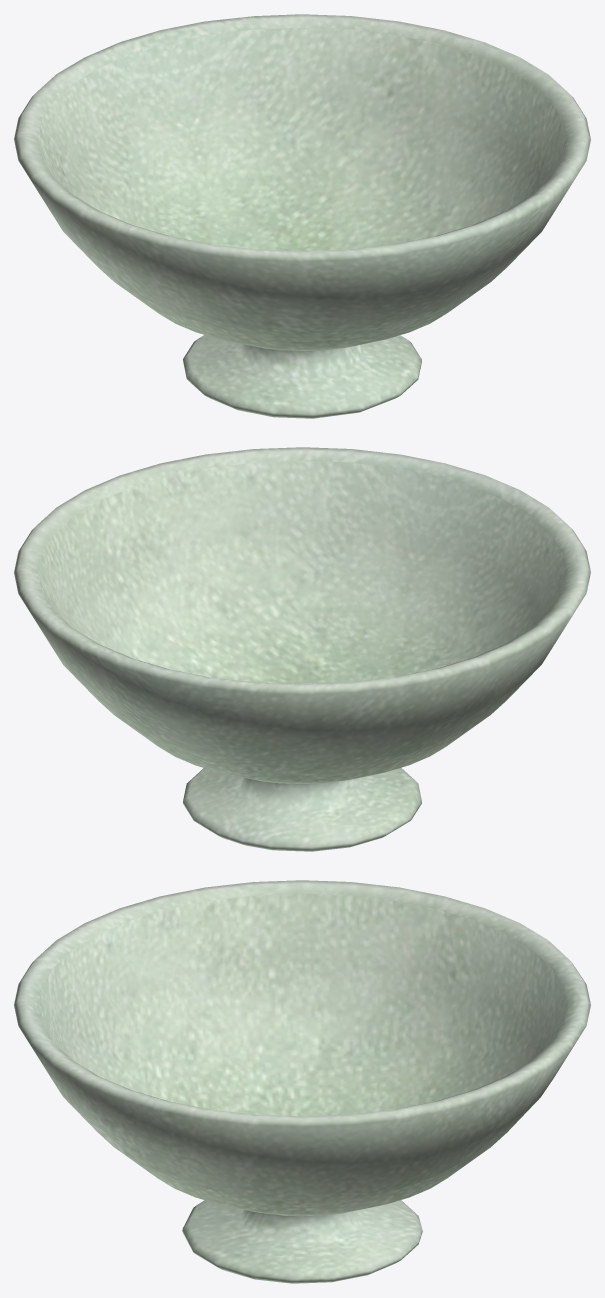
Rendered from Restaurant_Ice cream_Ice cream bowl.FBX.
The picture shows the model from 3 angles, top to bottom: view 1: azimuth 30°, elevation 25°; view 2: azimuth 150°, elevation 25°; view 3: azimuth 270°, elevation 25°; orthographic projection.
Parts seen in each view (by area): view 1: Restaurant_Ice cream_Ice cream bowl; view 2: Restaurant_Ice cream_Ice cream bowl; view 3: Restaurant_Ice cream_Ice cream bowl.
Boxes of the visible parts, left/top/right/bottom form: Restaurant_Ice cream_Ice cream bowl: left=14, top=14, right=590, bottom=418; Restaurant_Ice cream_Ice cream bowl: left=14, top=447, right=590, bottom=851; Restaurant_Ice cream_Ice cream bowl: left=14, top=880, right=590, bottom=1283.
Size of the model in its own units: 8.16 by 8.18 by 3.7.
